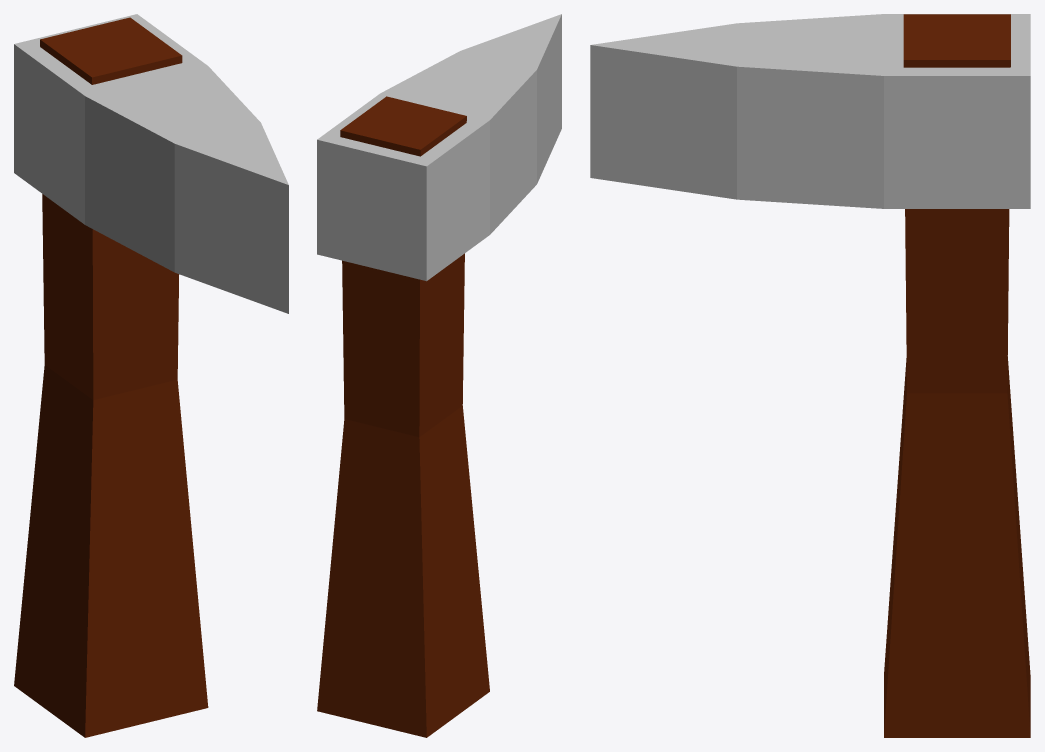
Rendered from Hache.glb.
3 views of the same model, side by side, from view 1: azimuth 30°, elevation 25°; view 2: azimuth 150°, elevation 25°; view 3: azimuth 270°, elevation 25° (orthographic). The views are drawn at different scales.
Visible parts, largest first — view 1: Cube.001; view 2: Cube.001; view 3: Cube.001.
Boxes of the visible parts, box(x1,y1,x2,y2) form: Cube.001: box(14, 14, 288, 737); Cube.001: box(317, 14, 561, 737); Cube.001: box(590, 14, 1030, 737).
Size of the model in its own units: 2 by 10.07 by 6.
